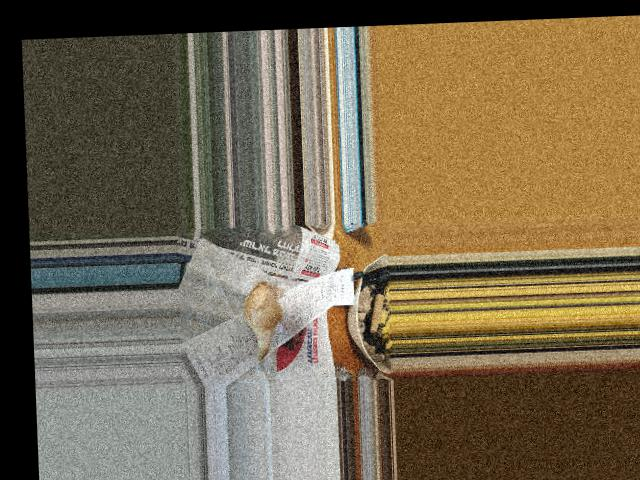onion: (246, 276, 283, 343)
